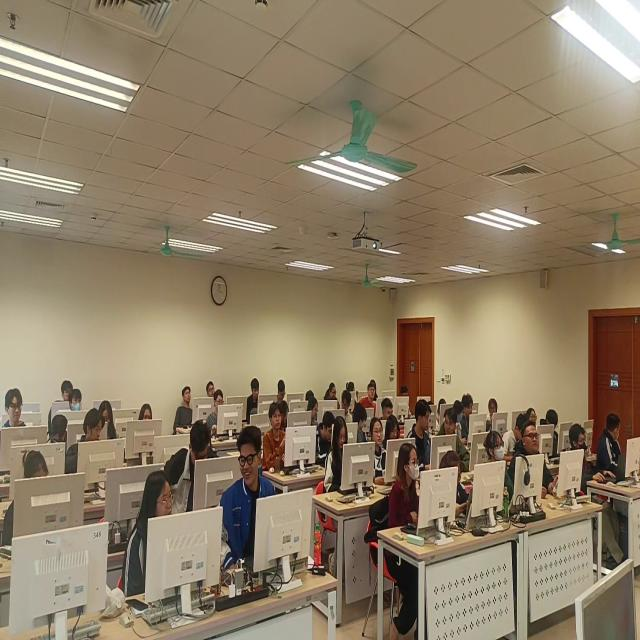raise_head: (123, 471, 175, 600), (517, 422, 555, 498), (485, 432, 514, 501), (263, 402, 290, 472), (369, 417, 391, 486), (49, 381, 74, 429), (174, 386, 196, 435), (3, 390, 27, 428), (359, 385, 377, 409), (69, 390, 83, 413), (139, 404, 155, 421), (527, 408, 539, 426), (207, 381, 217, 398)
using_computer: (2, 450, 50, 550), (166, 420, 212, 511), (563, 422, 607, 493), (389, 444, 426, 527), (324, 417, 351, 495), (540, 409, 565, 456), (503, 414, 529, 458), (316, 413, 336, 465), (207, 390, 226, 443), (99, 402, 122, 440), (247, 379, 263, 425), (48, 415, 70, 445), (462, 394, 475, 439), (401, 386, 416, 419), (326, 383, 343, 411), (385, 416, 400, 441), (380, 399, 396, 420), (280, 401, 291, 431), (278, 379, 289, 403), (438, 400, 448, 424), (307, 390, 316, 403), (428, 402, 436, 406)
using_phone: (439, 451, 471, 519)
